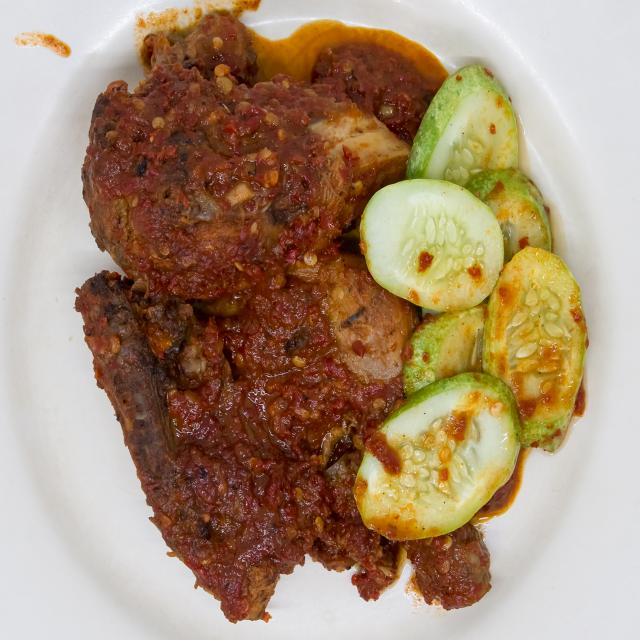Ayam-Bumbu-Rujak: (46, 19, 596, 624)
